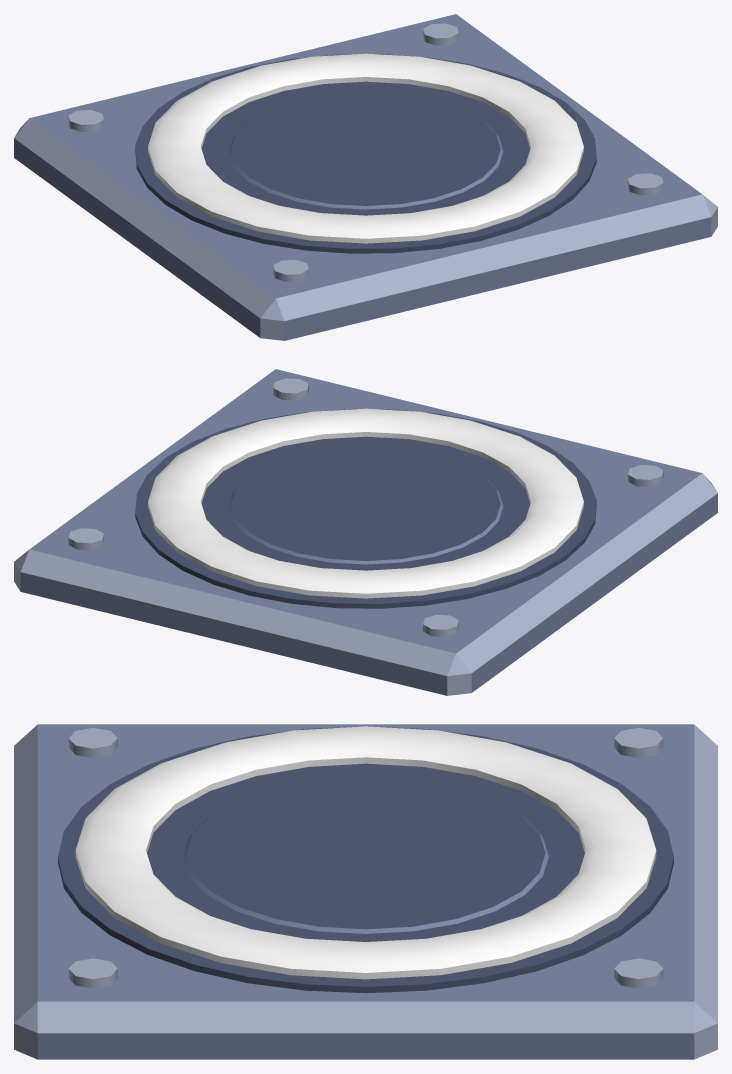
File: Plate_4x4.fbx
3 renders of one model, top to bottom at view 1: azimuth 30°, elevation 25°; view 2: azimuth 150°, elevation 25°; view 3: azimuth 270°, elevation 25°, orthographic. The views are drawn at different scales.
Visible parts, largest first — view 1: Plate_4x4, Plate_4x4_Ring; view 2: Plate_4x4, Plate_4x4_Ring; view 3: Plate_4x4, Plate_4x4_Ring.
Boxes of the visible parts, <box> form: Plate_4x4: <box>14,14,717,340</box>; Plate_4x4_Ring: <box>148,53,583,243</box>; Plate_4x4: <box>14,369,717,695</box>; Plate_4x4_Ring: <box>148,408,583,598</box>; Plate_4x4: <box>14,724,717,1059</box>; Plate_4x4_Ring: <box>75,726,656,979</box>.
Bounding box in the file's own units: 4 × 0.42 × 4.
1 material, 1 textured.
